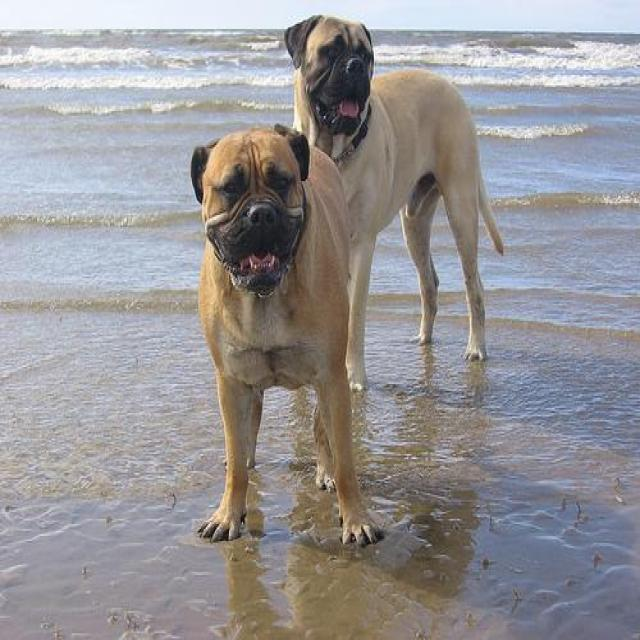adult_dog: (188, 123, 391, 548), (284, 11, 505, 394)
